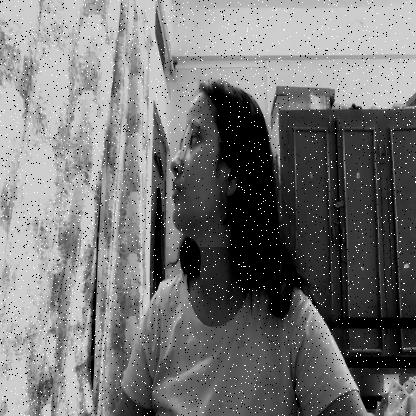Distracted: (166, 82, 258, 247)
